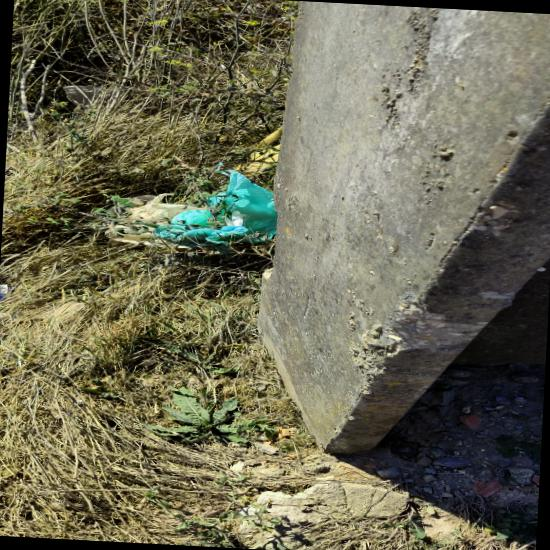Corrugated carton: (160, 245, 358, 365), (315, 236, 517, 335), (14, 273, 201, 364), (113, 173, 192, 207)
